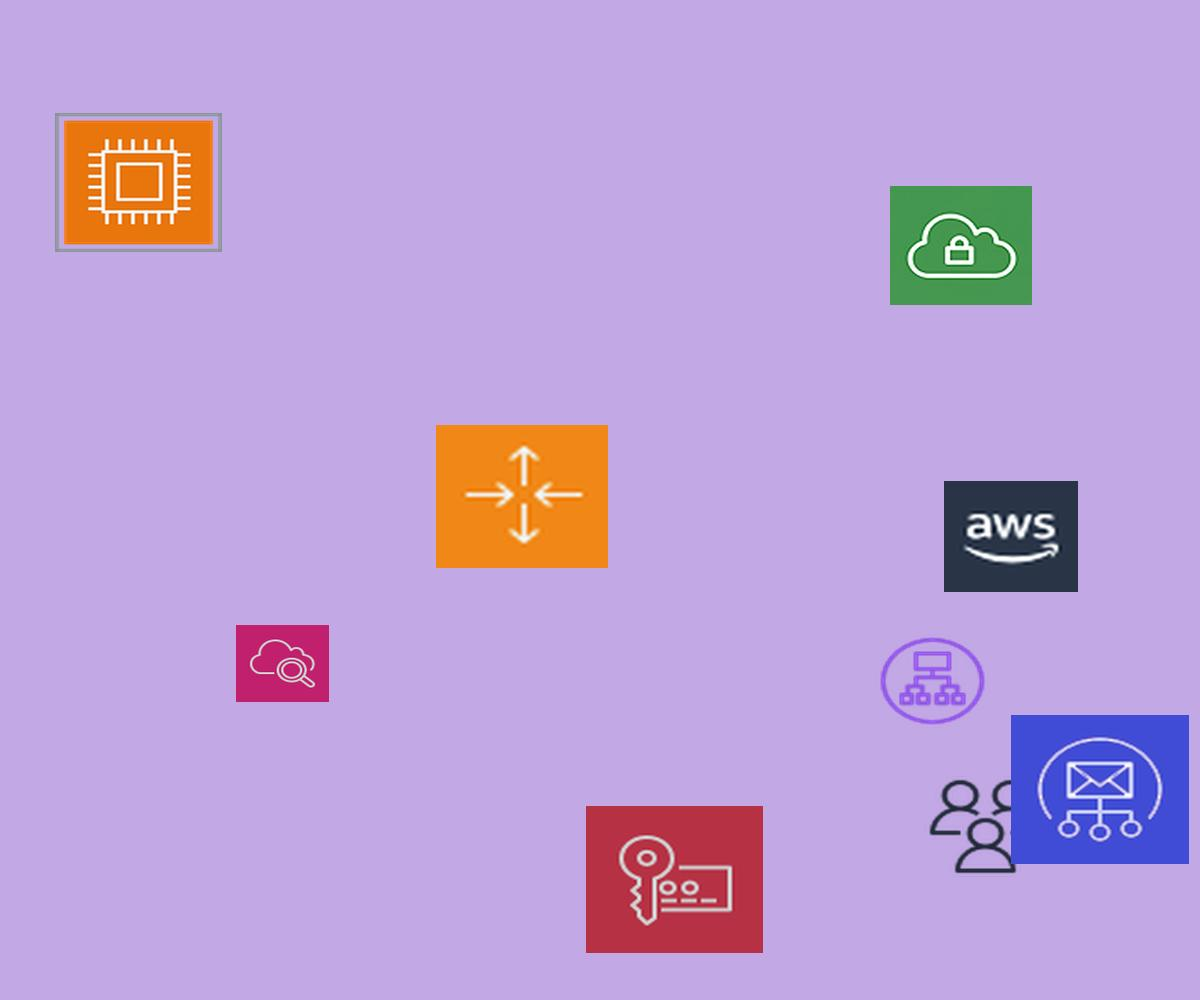AWS-Category_Compute: (55, 113, 222, 252)
AWS-Cloud-logo: (944, 481, 1078, 592)
AWS-CloudWatch: (236, 625, 329, 702)
AWS-Key-Management-Service: (586, 806, 763, 953)
AWS-Private_vpc: (890, 186, 1032, 305)
AWS-Res_Elastic-Load-Balancing_Application-Load-Balancer: (876, 634, 989, 728)
AWS-Res_Users: (925, 776, 1046, 877)
AWS-Scaling-group: (436, 425, 608, 568)
AWS-Simple-Email-Service: (1011, 715, 1189, 864)
